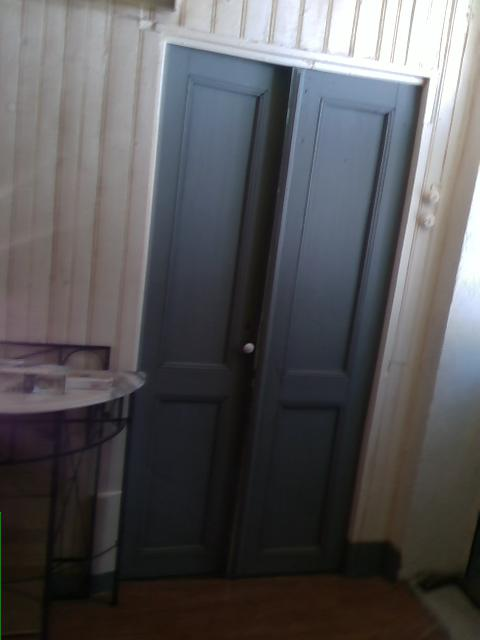door: (112, 33, 440, 592)
